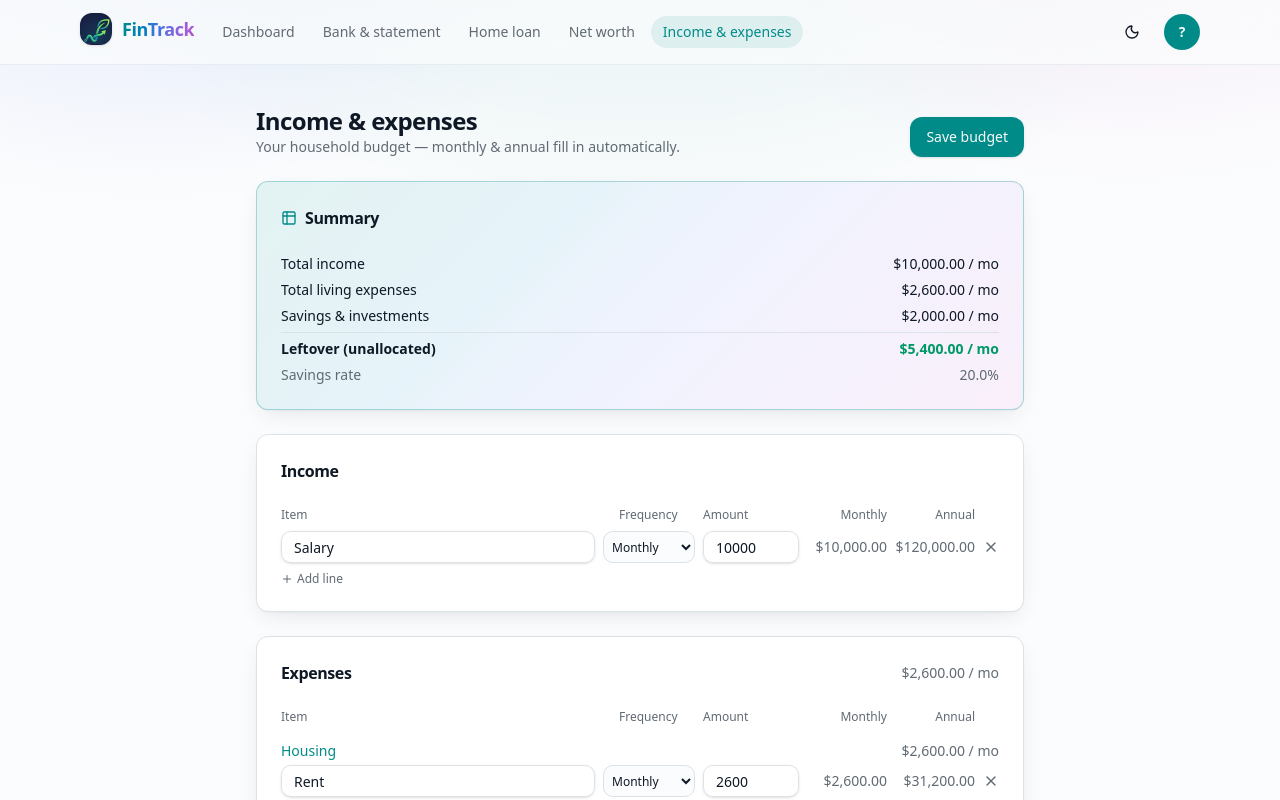
Test: BudgetPage › recomputes live as you edit an amount
Replace the text in the number field named "Amount" in the row of "$31,200.00" with "3600" at (751, 781), box [703,765,799,797]
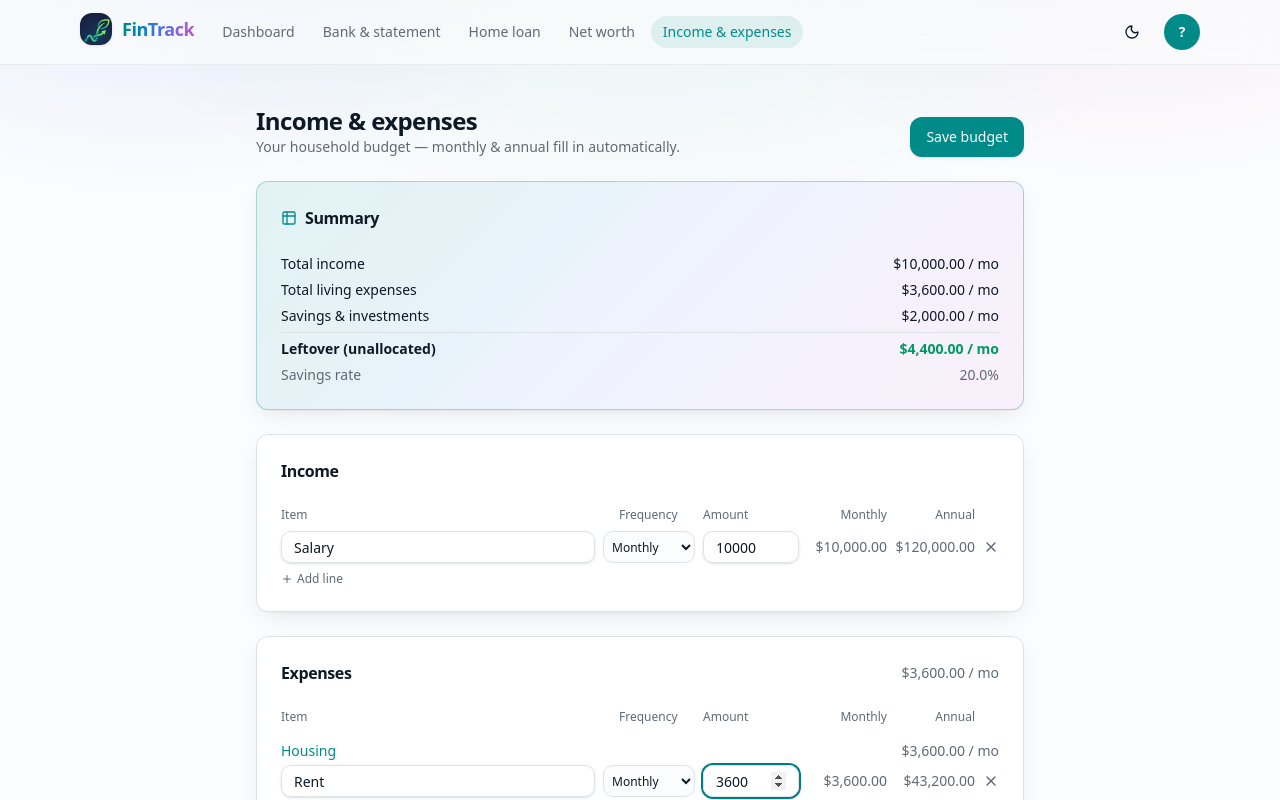
Expected: the text with test id "budget-leftover" shows "4,400", [900,339,964,358]
